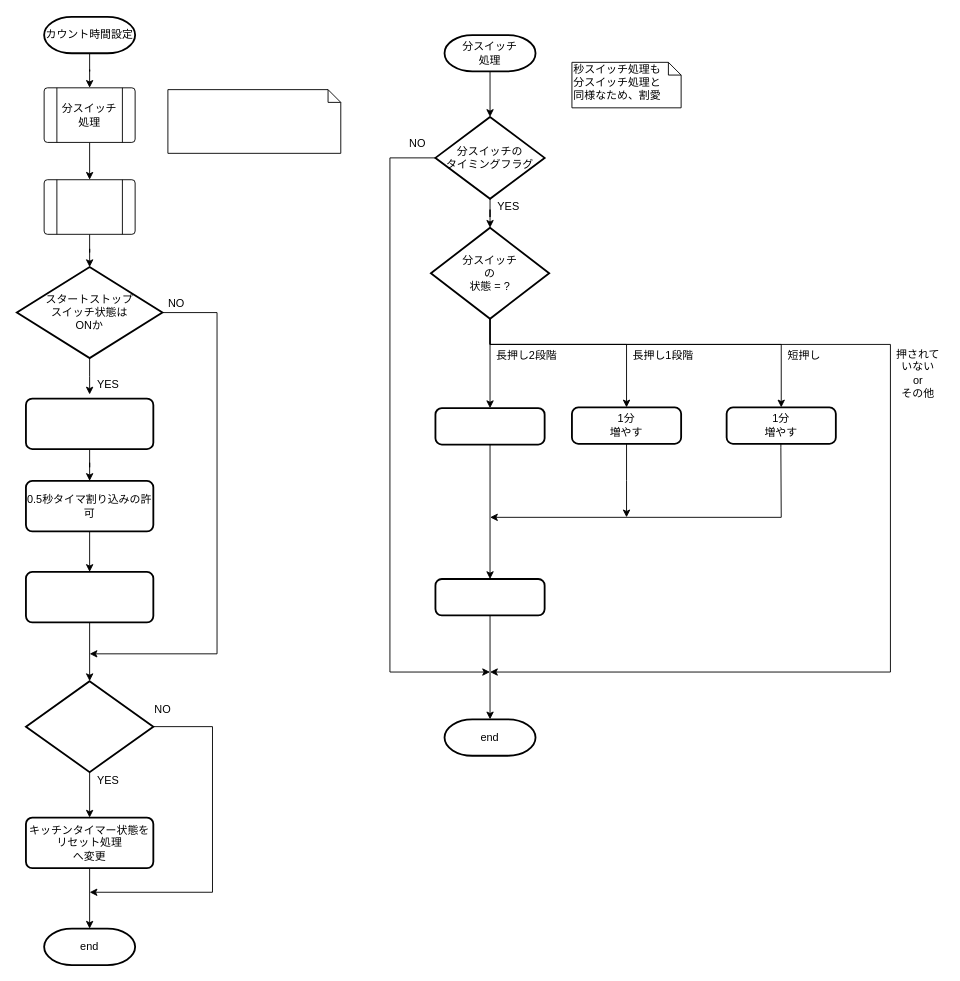
Some shapes in this 960 by 981 pixel diagram are drawn without their labels. Each missing label, with the centre of its shape:
10分 増やす: (x=489, y=426)
UpdateLCDフラグ をON: (x=489, y=597)
キッチンタイマー状態を カウントダウン中 へ変更: (x=89, y=597)
スイッチの状態 ・押された状態 → 押して離した時 ・押し続けている状態 → 押したあと、まだ離していない時: (x=254, y=121)
スタートストップスイッチ状態をOFFにする: (x=89, y=423)
リセットスイッチ 状態はONか？: (x=89, y=726)
秒スイッチ 処理: (x=89, y=206)
